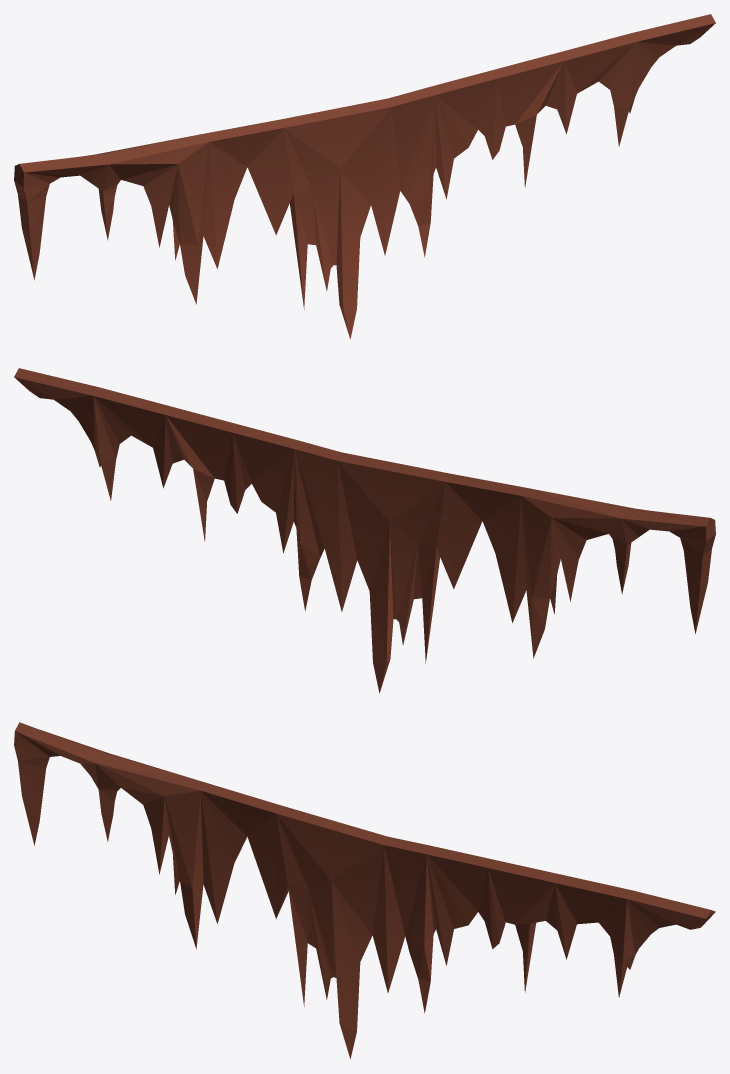
Rendered from ZLP_Rag_A_8.FBX.
3 views of the same model, one above another, from view 1: azimuth 30°, elevation 25°; view 2: azimuth 150°, elevation 25°; view 3: azimuth 330°, elevation 25° (orthographic).
Parts seen in each view (by area): view 1: ZLP_Rag_A_8; view 2: ZLP_Rag_A_8; view 3: ZLP_Rag_A_8.
Part boxes in pixels (x1,y1,x2,y2): ZLP_Rag_A_8: (14, 14, 715, 339); ZLP_Rag_A_8: (14, 368, 715, 693); ZLP_Rag_A_8: (14, 722, 715, 1059).
Bounding box in the file's own units: 622 × 220 × 21.43.
